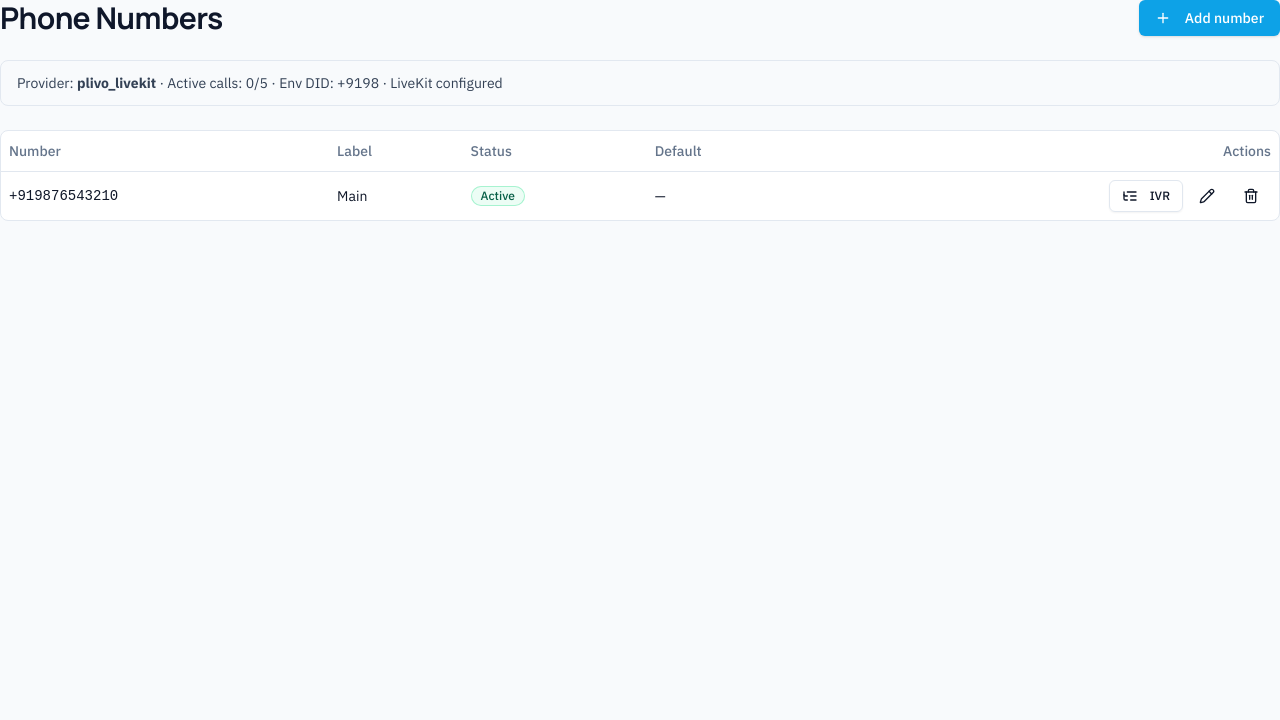
TelephonyNumbers › opens IVR editor when telephony is enabled
The image size is (1280, 720).
Click the button with test id "telephony-ivr-did1". click: (1146, 196)
box: [1109,180,1183,212]
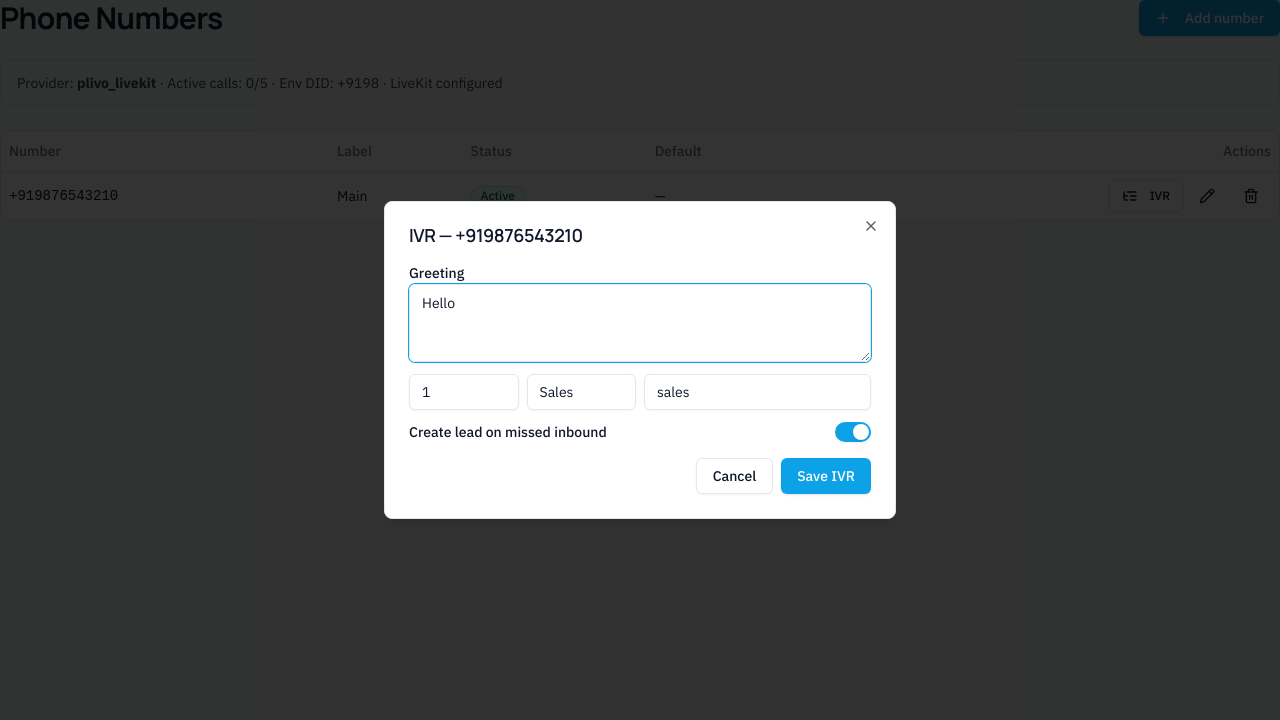
Expected: the dialog with test id "telephony-ivr-dialog" is shown, [384,201,896,519]
Expected: the text box with test id "telephony-ivr-greeting" holds "Hello", [409,284,871,362]
